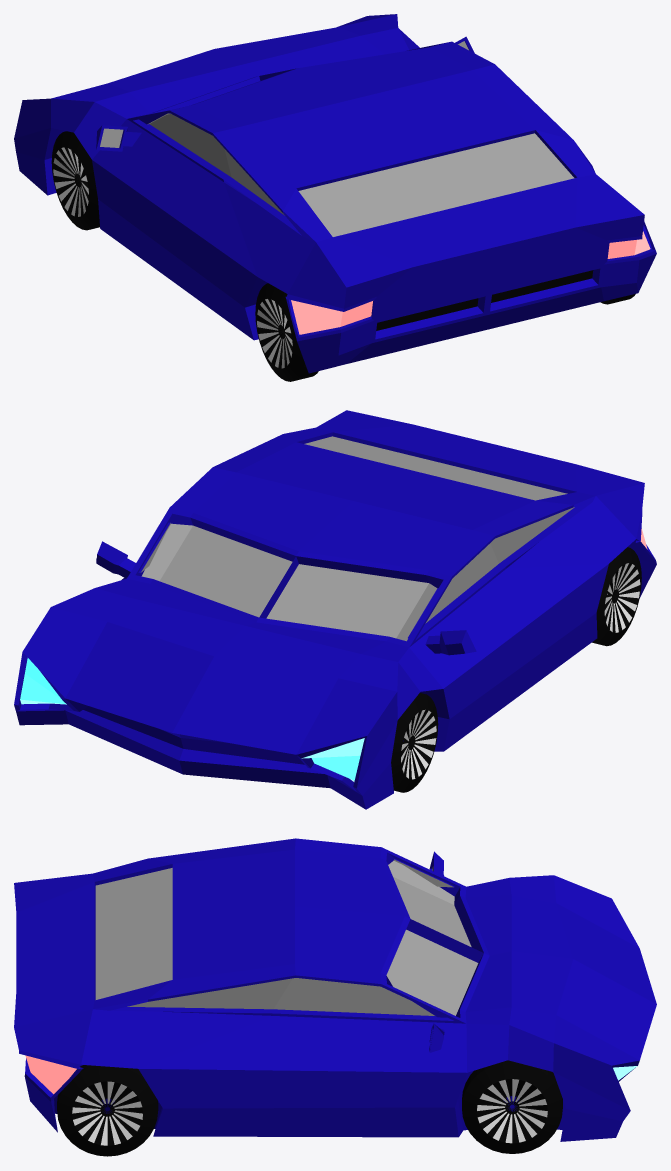
3 renders of one model, top to bottom at view 1: azimuth 30°, elevation 25°; view 2: azimuth 150°, elevation 25°; view 3: azimuth 270°, elevation 25°, orthographic.
Parts seen in each view (by area): view 1: Cube_1; view 2: Cube_1; view 3: Cube_1.
Boxes of the visible parts, x1,y1,x2,y2 form: Cube_1: (14,14,656,381); Cube_1: (14,410,656,809); Cube_1: (14,838,656,1156).
Size of the model in its own units: 3.21 by 1.36 by 4.72.
